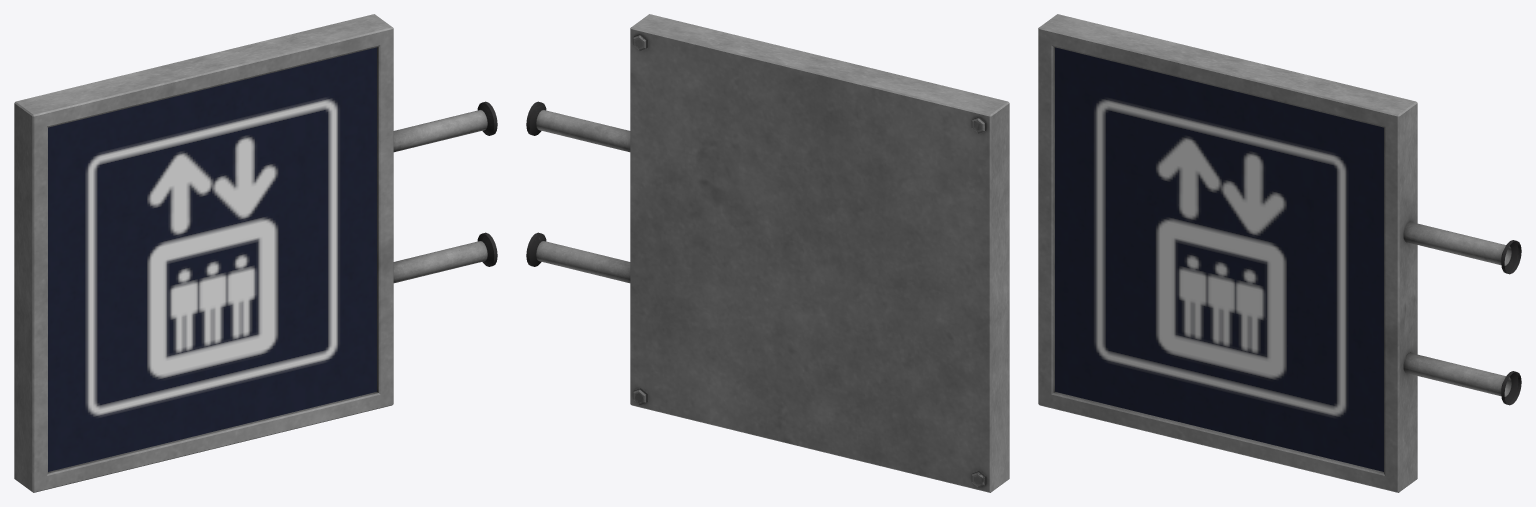
File: infosigns_0002_right.fbx
The picture shows the model from 3 angles, left to right: view 1: azimuth 30°, elevation 25°; view 2: azimuth 150°, elevation 25°; view 3: azimuth 330°, elevation 25°; orthographic projection.
Parts seen in each view (by area): view 1: infosigns_0002_right_21; view 2: infosigns_0002_right_21; view 3: infosigns_0002_right_21.
Part boxes in pixels (x1,y1,x2,y2): infosigns_0002_right_21: (14, 14, 497, 492); infosigns_0002_right_21: (526, 14, 1009, 492); infosigns_0002_right_21: (1038, 14, 1521, 492).
Size of the model in its own units: 0.6487 by 0.5033 by 0.0514.
